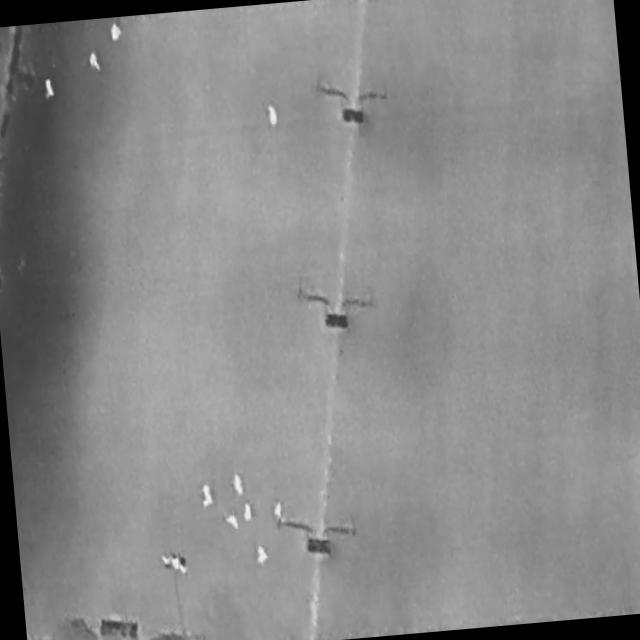person: (202, 484, 215, 510), (233, 472, 245, 497), (257, 546, 271, 567), (268, 106, 279, 128), (226, 513, 240, 530), (110, 24, 123, 42), (45, 78, 56, 98), (244, 503, 254, 524), (90, 52, 100, 70), (274, 502, 283, 520)
